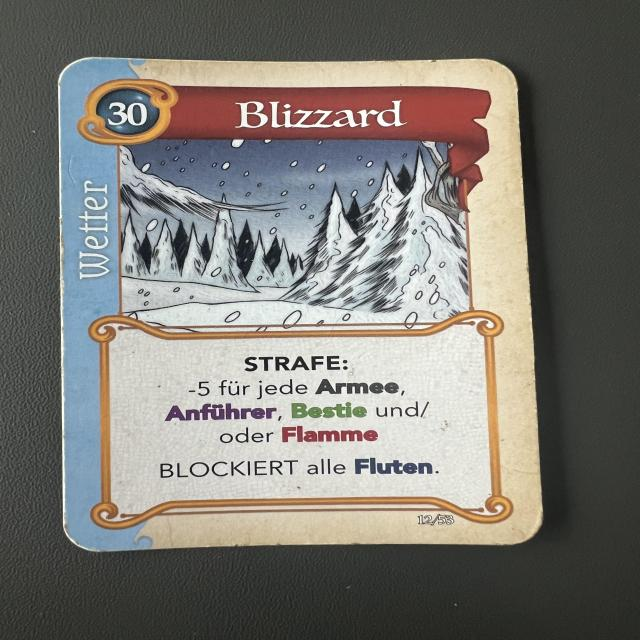Blizzard: (59, 54, 547, 552)
